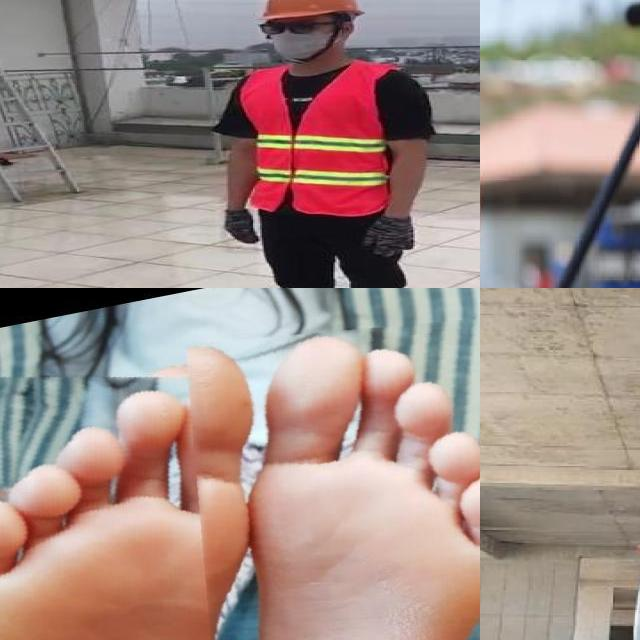Barefoots: (238, 343, 480, 640), (0, 365, 255, 640)
face_mask: (258, 15, 340, 60)
glasses: (252, 17, 325, 38)
hand_glove: (358, 217, 418, 258), (221, 209, 264, 244)
head_helmet: (253, 0, 362, 21)
person: (206, 0, 441, 288), (480, 23, 636, 288)
vest: (237, 63, 395, 218)
